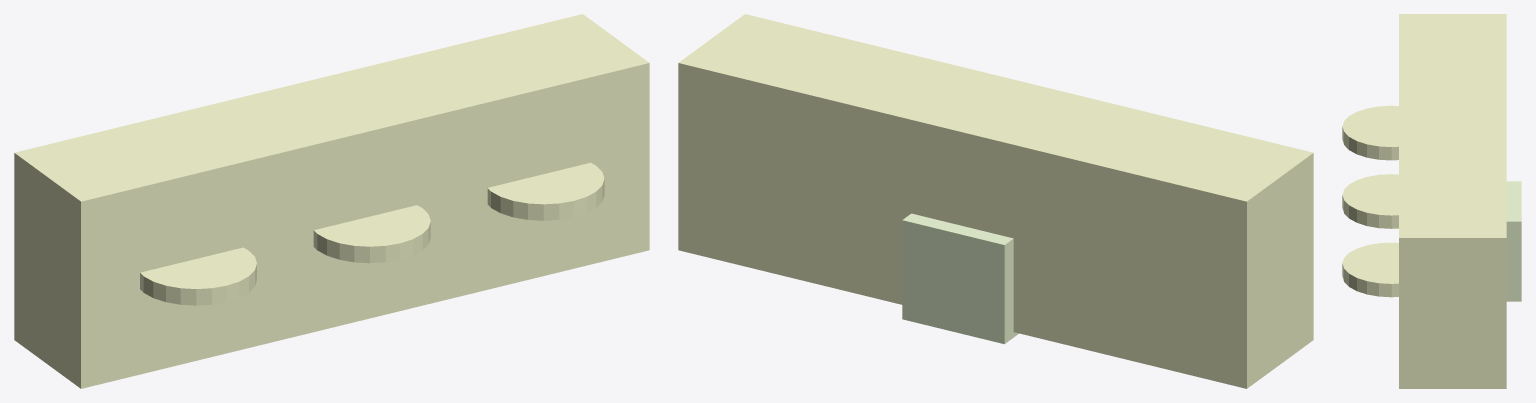
Rendered from signal_vehicle_horizontal_3_aspect.glb.
The picture shows the model from 3 angles, left to right: view 1: azimuth 30°, elevation 25°; view 2: azimuth 150°, elevation 25°; view 3: azimuth 270°, elevation 25°; orthographic projection. The views are drawn at different scales.
Visible parts, largest first — view 1: housing, lens_yellow, lens_green, lens_red; view 2: housing, bracket; view 3: housing, lens_red, lens_green, lens_yellow, bracket.
Boxes of the visible parts, left/top/right/bottom form: housing: left=14, top=14, right=649, bottom=388; lens_yellow: left=313, top=205, right=430, bottom=263; lens_green: left=487, top=162, right=604, bottom=220; lens_red: left=140, top=247, right=256, bottom=305; housing: left=678, top=14, right=1313, bottom=388; bracket: left=902, top=213, right=1018, bottom=344; housing: left=1399, top=14, right=1506, bottom=388; lens_red: left=1342, top=105, right=1398, bottom=160; lens_green: left=1342, top=242, right=1398, bottom=297; lens_yellow: left=1342, top=174, right=1398, bottom=228; bracket: left=1506, top=181, right=1521, bottom=301.
Size of the model in its own units: 1.08 by 0.35 by 0.365.
